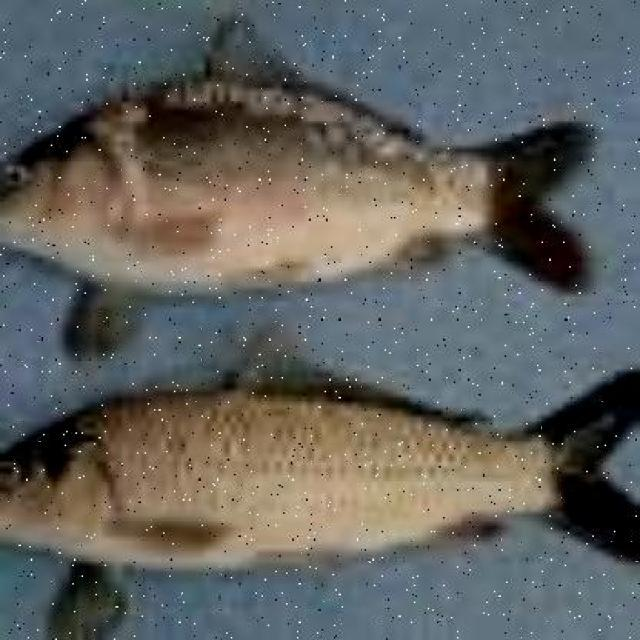ikan-mas: (0, 352, 640, 617), (0, 25, 591, 294)
